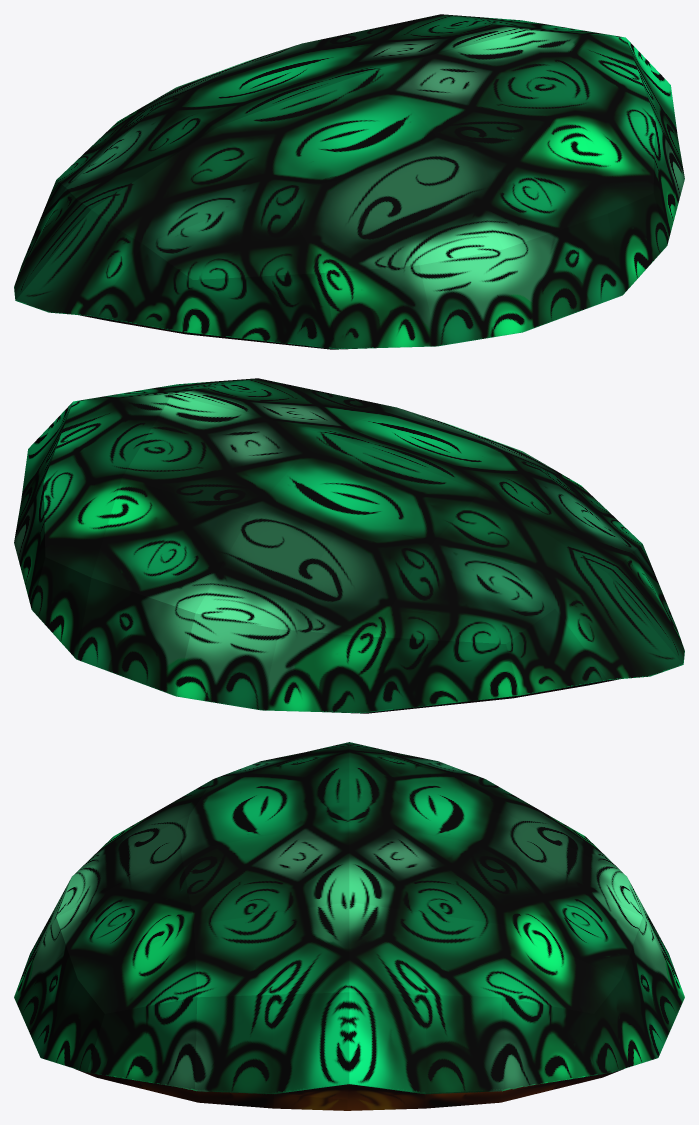
Rendered from UnitySchildKrötenPanzer.fbx.
3 renders of one model, top to bottom at view 1: azimuth 30°, elevation 25°; view 2: azimuth 150°, elevation 25°; view 3: azimuth 270°, elevation 25°, orthographic. The views are drawn at different scales.
Visible parts, largest first — view 1: Cube; view 2: Cube; view 3: Cube.
Boxes of the visible parts, x1,y1,x2,y2 form: Cube: (14,14,684,349); Cube: (14,378,684,713); Cube: (14,742,684,1110).
Size of the model in its own units: 562 by 134 by 437.
